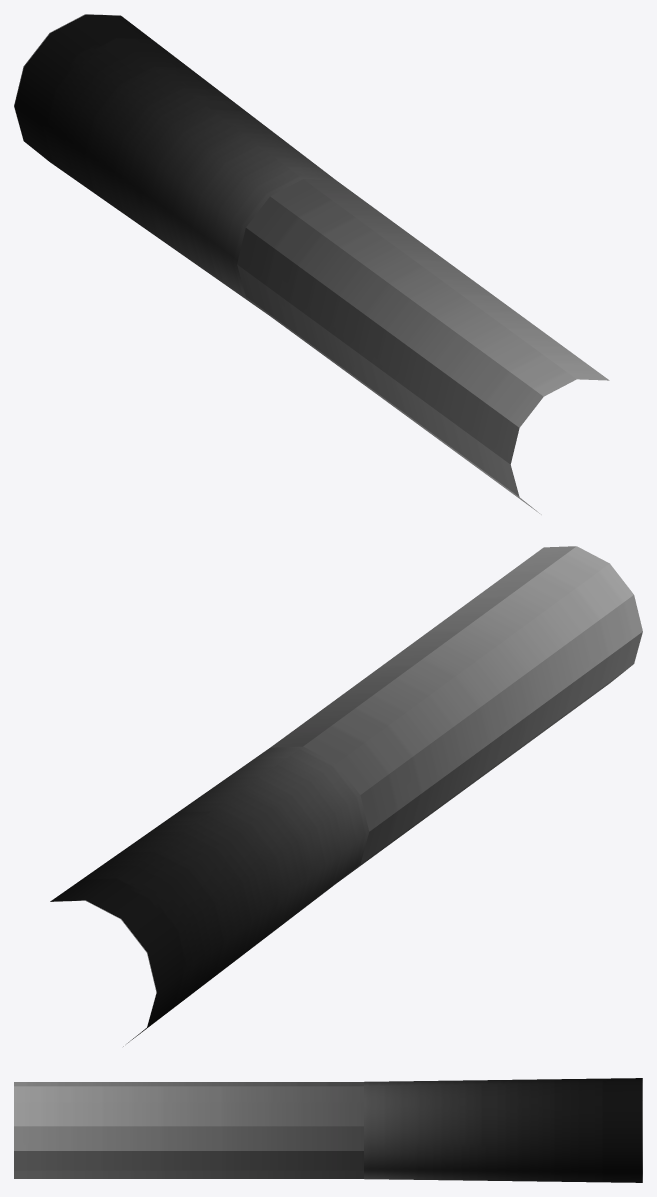
The model's file is clinderlight.glb.
3 views of the same model, one above another, from view 1: azimuth 30°, elevation 25°; view 2: azimuth 150°, elevation 25°; view 3: azimuth 270°, elevation 25° (orthographic). The views are drawn at different scales.
Parts seen in each view (by area): view 1: model_clinderlight; view 2: model_clinderlight; view 3: model_clinderlight.
Boxes of the visible parts, x1=… form: model_clinderlight: x1=14, y1=14, x2=609, y2=514; model_clinderlight: x1=50, y1=546, x2=642, y2=1046; model_clinderlight: x1=14, y1=1078, x2=642, y2=1182.
Size of the model in its own units: 2.48 by 2.48 by 14.82.
Materials: 1 (1 with a texture image).
